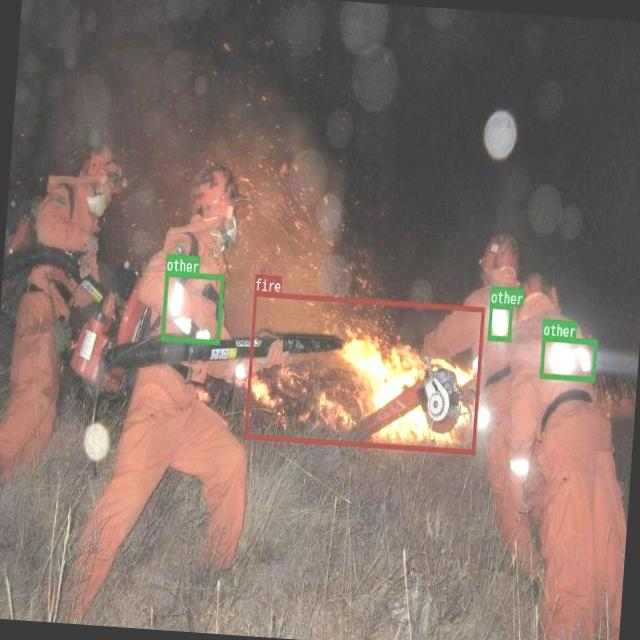fire: (242, 290, 484, 452)
